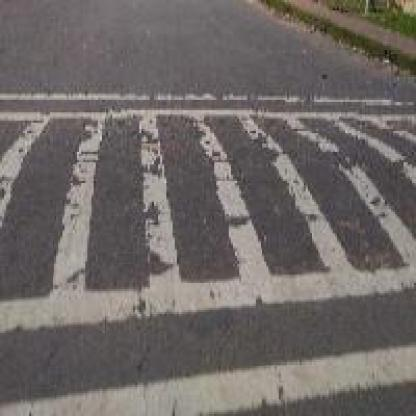Speed Bump: (2, 89, 412, 414)
